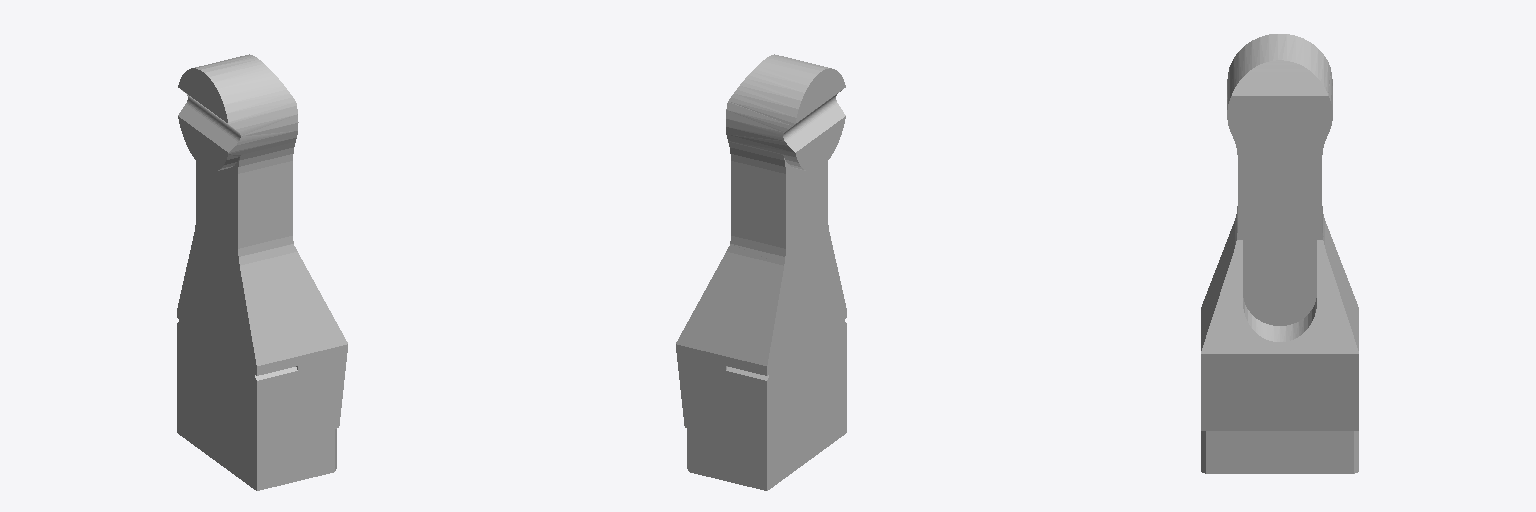
File: finger_with_tip.obj
3 views of the same model, side by side, from view 1: azimuth 30°, elevation 25°; view 2: azimuth 150°, elevation 25°; view 3: azimuth 270°, elevation 25° (orthographic).
Size of the model in its own units: 0.023 by 0.082 by 0.03.